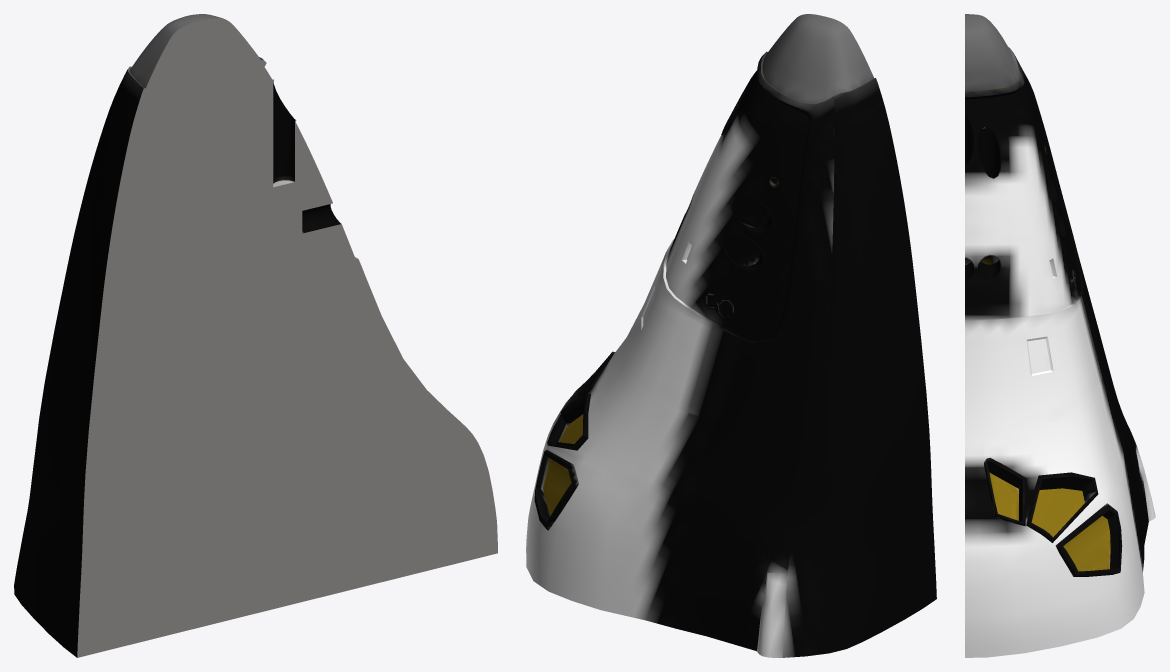
The model's file is Puzzle_3_Cell_07.glb.
3 renders of one model, left to right at view 1: azimuth 30°, elevation 25°; view 2: azimuth 150°, elevation 25°; view 3: azimuth 270°, elevation 25°, orthographic. The views are drawn at different scales.
Visible parts, largest first — view 1: Puzzle_3_Cell_07; view 2: Puzzle_3_Cell_07; view 3: Puzzle_3_Cell_07.
Part boxes in pixels (x1=…): Puzzle_3_Cell_07: x1=14, y1=14, x2=497, y2=657; Puzzle_3_Cell_07: x1=526, y1=14, x2=936, y2=657; Puzzle_3_Cell_07: x1=965, y1=14, x2=1155, y2=657.
Size of the model in its own units: 12.42 by 17.13 by 5.74.
Materials: 2 (2 with a texture image).
